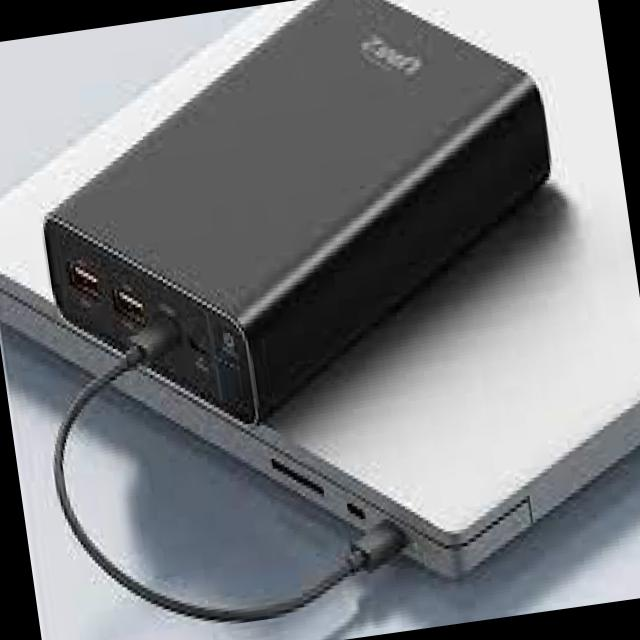portable-charger: (21, 0, 585, 452)
